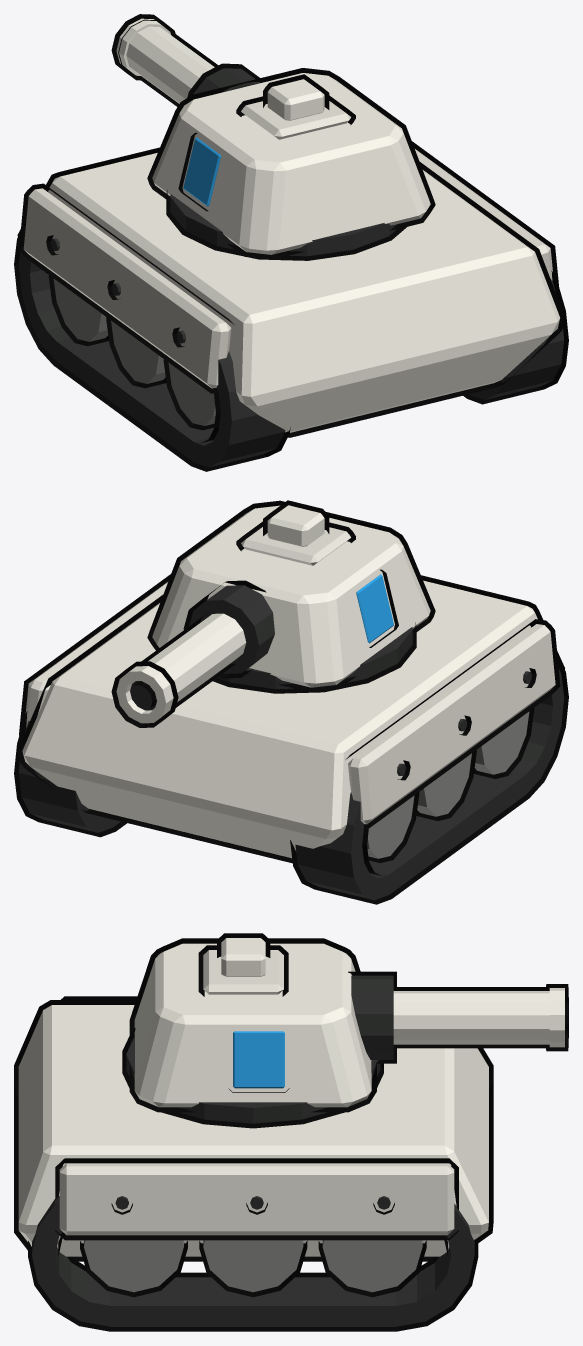
The model's file is HeavyTank_A1.glb.
3 views of the same model, one above another, from view 1: azimuth 30°, elevation 25°; view 2: azimuth 150°, elevation 25°; view 3: azimuth 270°, elevation 25° (orthographic). The views are drawn at different scales.
Visible parts, largest first — view 1: HullMesh, TurretMesh, Outline_HullMesh, BarrelMesh, Outline_TurretMesh, Outline_BarrelMesh; view 2: HullMesh, TurretMesh, Outline_HullMesh, BarrelMesh, Outline_TurretMesh, Outline_BarrelMesh; view 3: HullMesh, TurretMesh, Outline_HullMesh, BarrelMesh, Outline_TurretMesh, Outline_BarrelMesh.
Boxes of the visible parts, bbox=[...] form: HullMesh: bbox=[18, 149, 564, 467]; TurretMesh: bbox=[152, 73, 430, 256]; Outline_HullMesh: bbox=[14, 141, 568, 471]; BarrelMesh: bbox=[116, 18, 260, 103]; Outline_TurretMesh: bbox=[147, 68, 435, 260]; Outline_BarrelMesh: bbox=[111, 14, 264, 106]; HullMesh: bbox=[18, 580, 564, 900]; TurretMesh: bbox=[152, 505, 430, 689]; Outline_HullMesh: bbox=[14, 574, 568, 904]; BarrelMesh: bbox=[116, 585, 274, 723]; Outline_TurretMesh: bbox=[147, 500, 435, 693]; Outline_BarrelMesh: bbox=[111, 580, 266, 727]; HullMesh: bbox=[18, 1005, 488, 1326]; TurretMesh: bbox=[126, 938, 380, 1123]; Outline_HullMesh: bbox=[14, 996, 493, 1331]; BarrelMesh: bbox=[351, 975, 564, 1059]; Outline_TurretMesh: bbox=[122, 933, 383, 1128]; Outline_BarrelMesh: bbox=[348, 971, 568, 1063].
Bounding box in the file's own units: 2.22 × 1.74 × 2.88.
